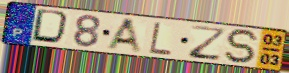8: (72, 14, 103, 49)
A: (104, 17, 145, 55)
D: (30, 8, 73, 46)
L: (147, 20, 173, 57)
S: (224, 28, 262, 65)
Z: (188, 24, 229, 62)
